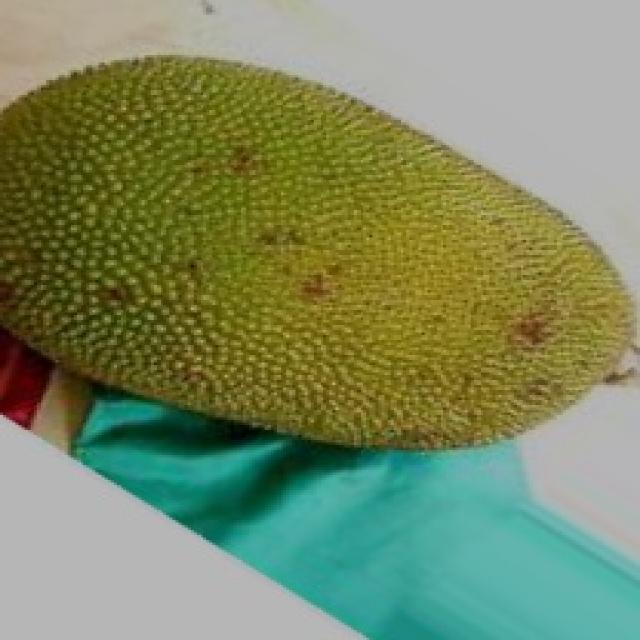Fruit: (0, 25, 406, 460)
